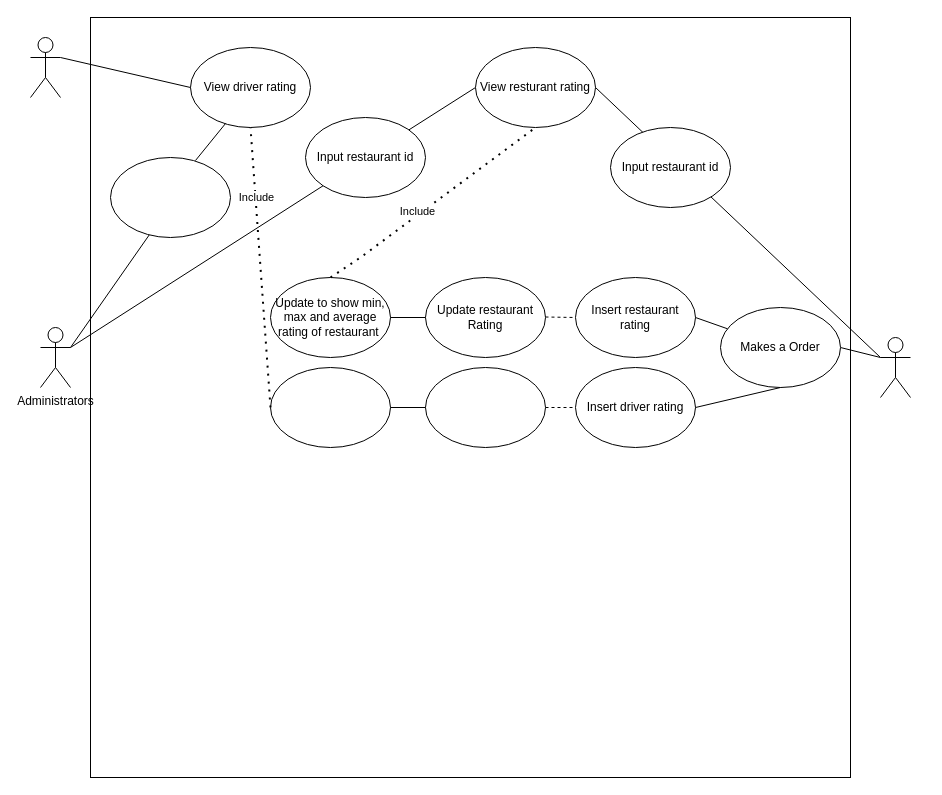
The diagram is 942 pixels wide and 795 high, and some of its shapes have lost their labels. The centre of each missing label's shape, as x and y in pixels:
Customers: (x=895, y=367)
Driver: (x=45, y=67)
Input driver id: (x=170, y=197)
Update driver rating: (x=485, y=407)
Update to show min, max and average rating of driver: (x=330, y=407)
